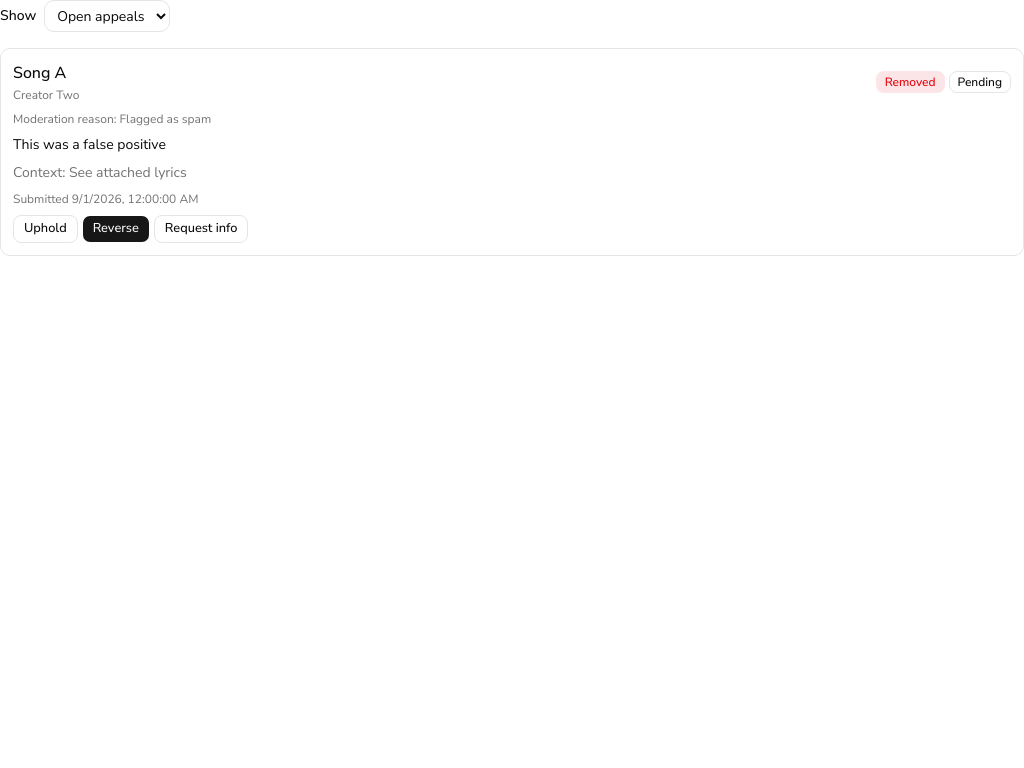
Test: AppealsPanel › requires a note before Request info can be submitted
Click the button "Request info" at (201, 229), box [154,215,248,243]
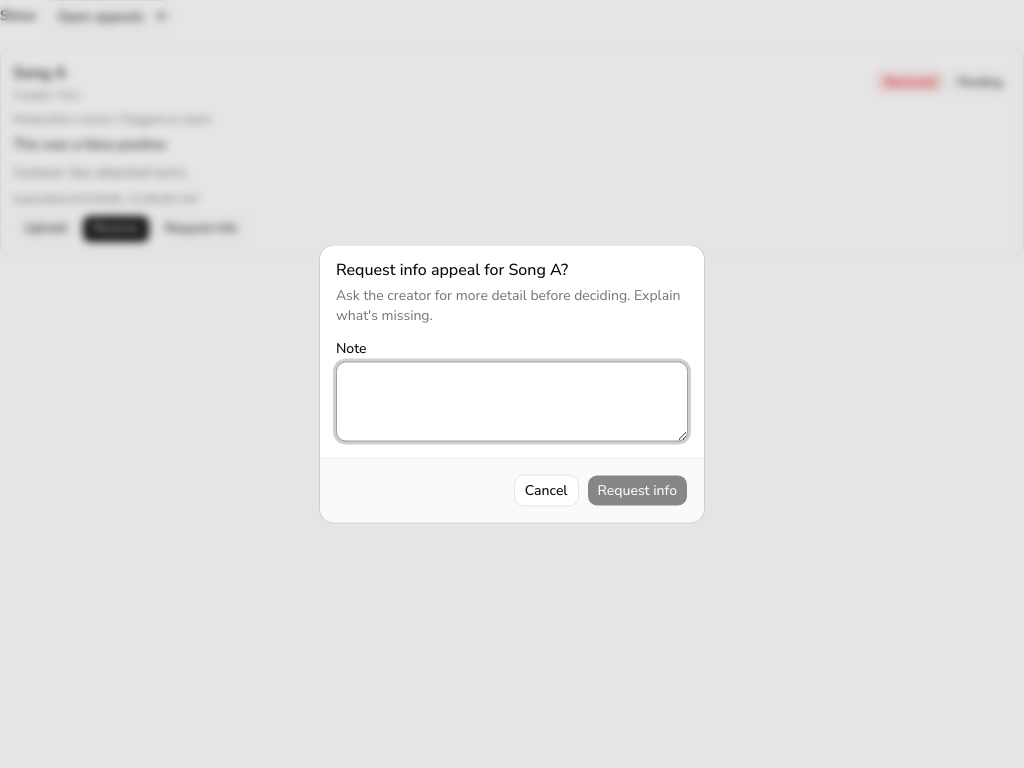
Check: the button "Request info" is disabled, box [587,474,688,506]
Type "Need lyric proof" into the text box labelled "Note" at (512, 402), box [336,362,688,442]
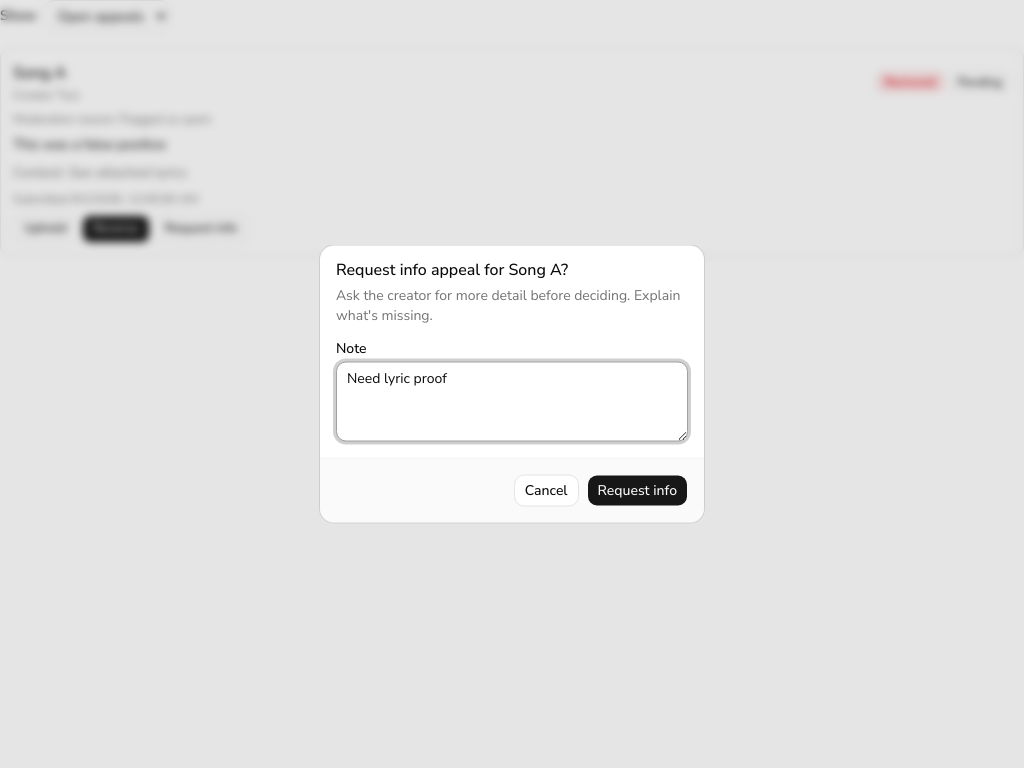
Check: the button "Request info" is enabled, box [587,474,688,506]
